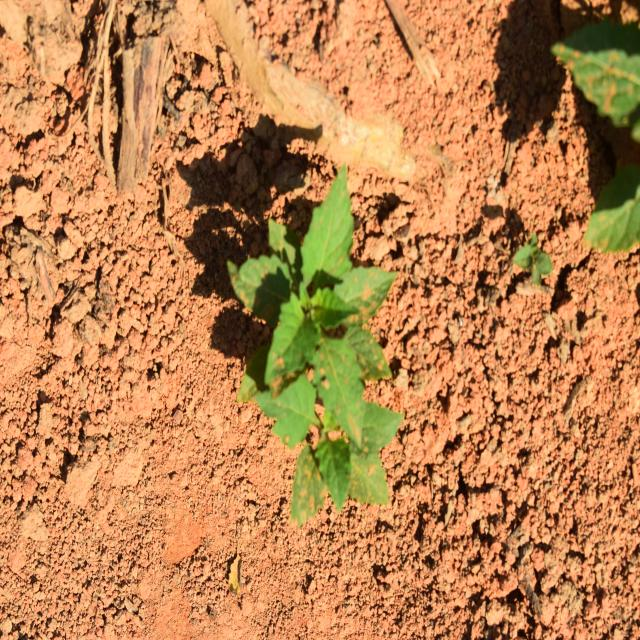Black_nightshade: (245, 184, 418, 509)
